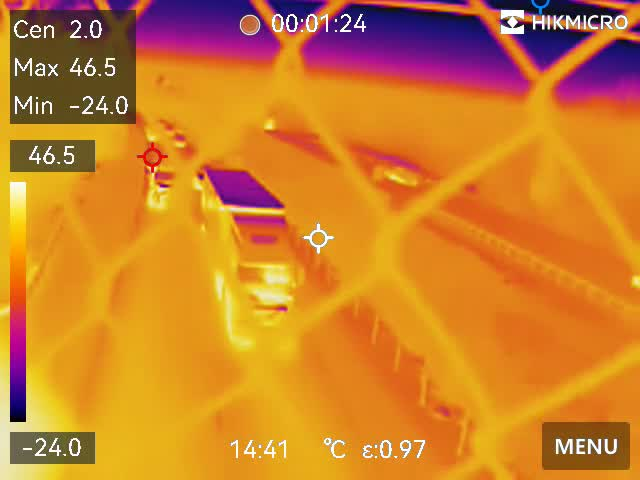heavyTruck: (202, 169, 314, 363)
vehicle: (150, 160, 175, 207), (169, 133, 191, 153)
